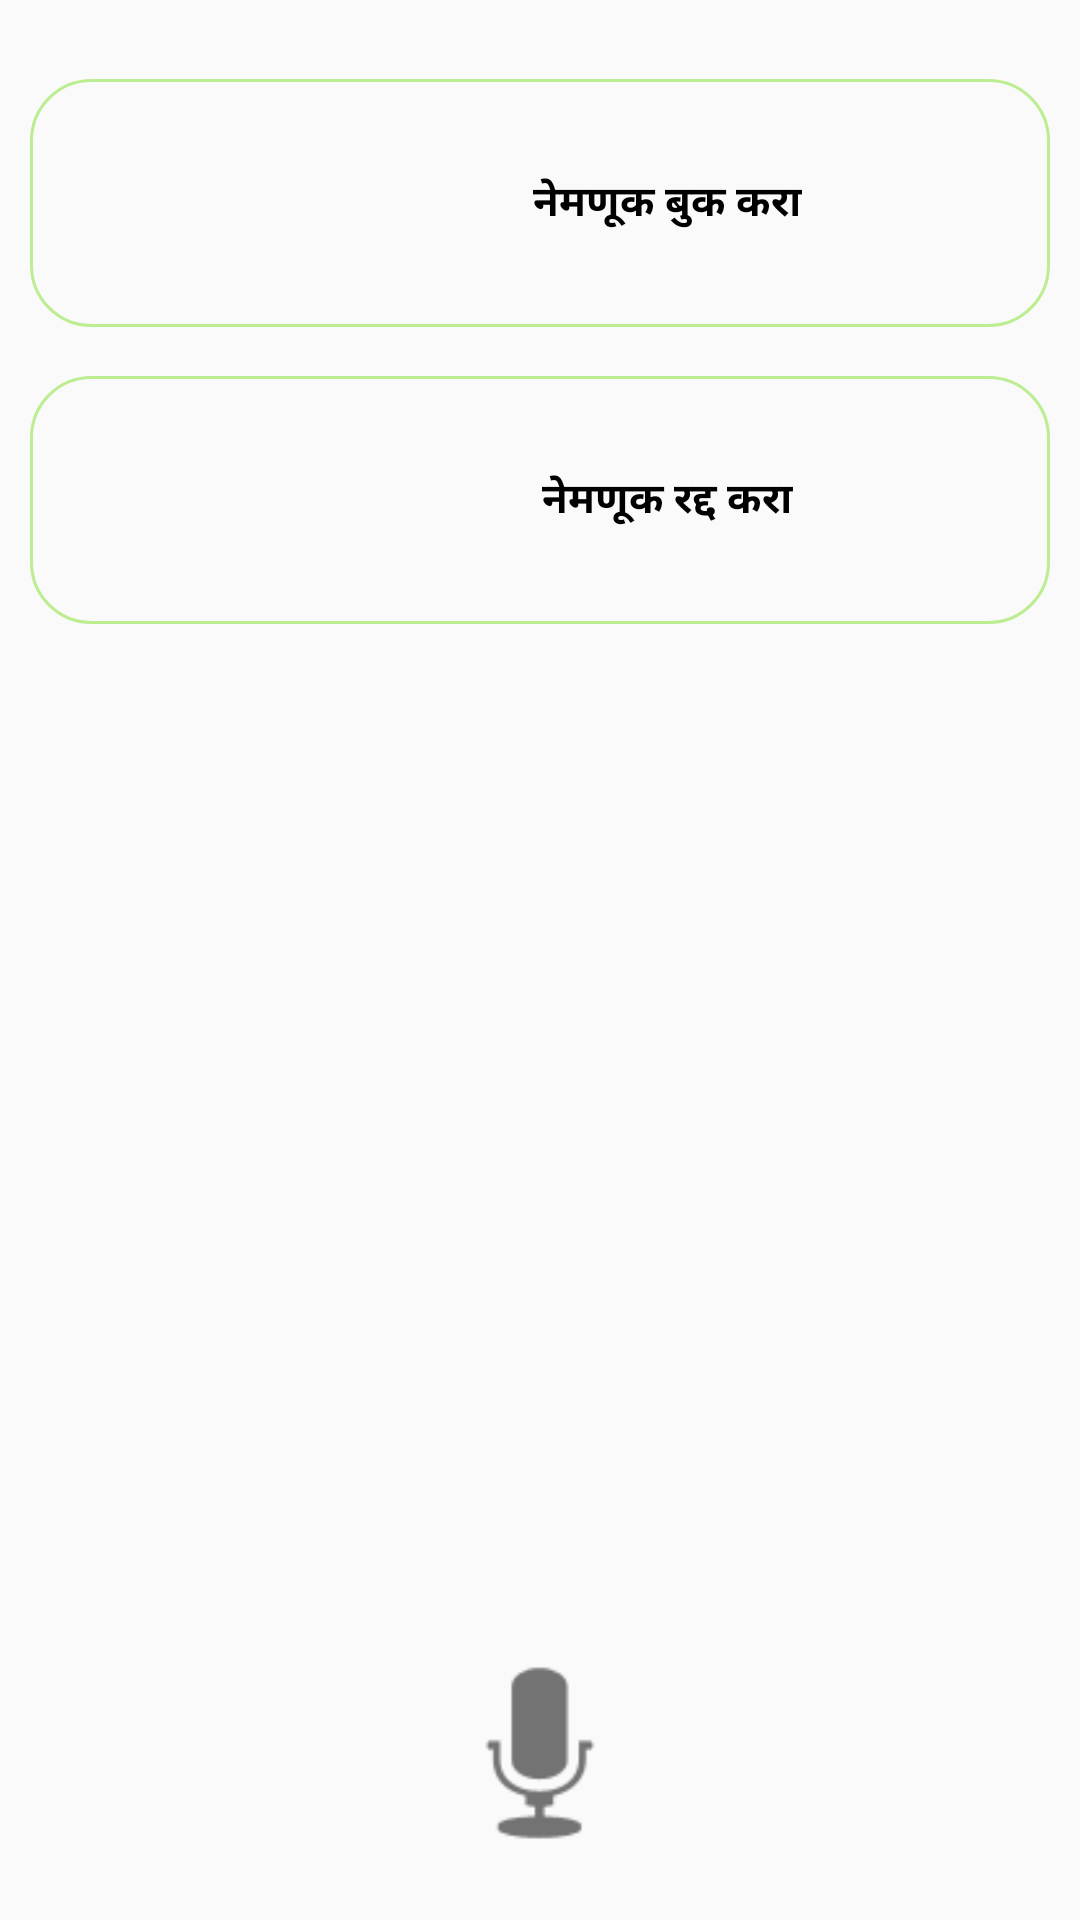

Where icons sit on this 1080×1920 app screen, as (x1, y1, x2, y2):
speak now: (486, 1667, 594, 1839)
